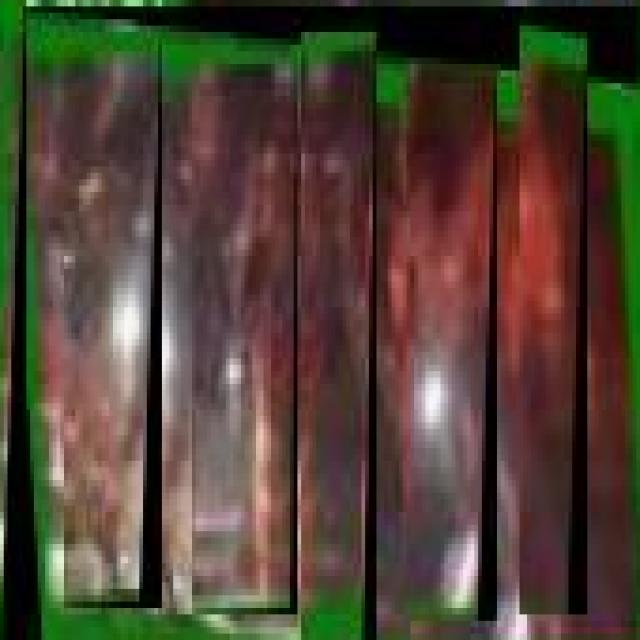nofire: (4, 6, 640, 640)
